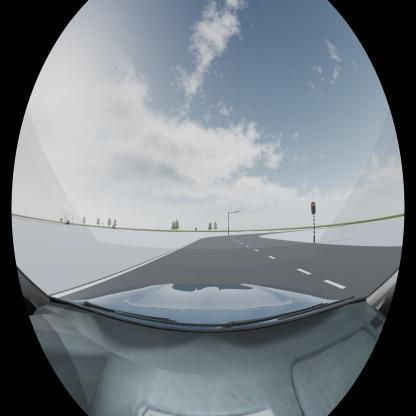Red Light: (311, 201, 316, 215)
